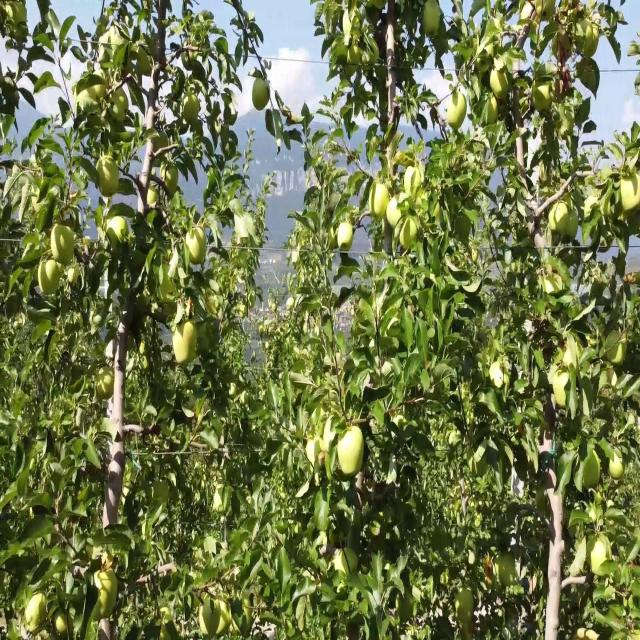apple: (340, 426, 365, 476), (96, 575, 119, 619), (40, 255, 62, 299), (176, 319, 198, 363), (52, 227, 76, 265), (576, 21, 600, 57), (100, 156, 120, 199), (188, 227, 208, 268), (448, 92, 468, 130), (584, 447, 601, 491), (252, 78, 272, 114), (496, 554, 516, 590), (592, 540, 612, 574), (620, 177, 640, 210), (336, 220, 355, 254), (608, 334, 628, 366), (532, 85, 554, 114), (96, 369, 116, 400), (184, 319, 198, 363), (372, 184, 389, 220), (400, 220, 419, 252), (456, 590, 476, 620), (556, 63, 572, 100), (388, 191, 403, 228), (560, 341, 579, 370), (184, 92, 200, 126), (556, 28, 572, 62), (424, 7, 442, 37), (492, 71, 510, 101), (108, 220, 128, 247), (556, 369, 568, 411), (308, 440, 327, 466), (164, 163, 180, 192), (564, 213, 580, 242), (608, 455, 624, 480), (348, 42, 364, 66), (436, 28, 449, 57), (136, 291, 151, 316), (484, 554, 495, 588), (556, 206, 568, 236), (488, 99, 499, 126), (316, 440, 327, 466), (104, 554, 116, 574), (388, 7, 397, 28), (464, 625, 476, 638), (328, 234, 337, 251), (248, 291, 256, 306), (240, 305, 248, 320)
